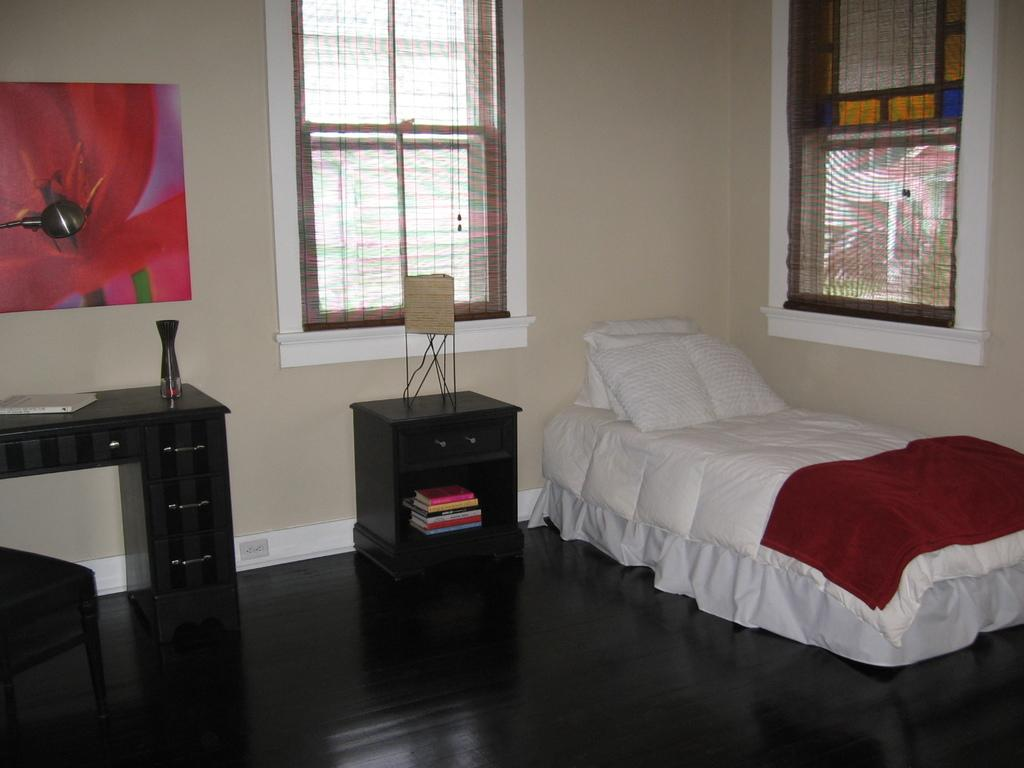cabinet_door: (153, 466, 231, 528), (1, 426, 143, 460), (398, 418, 508, 460), (148, 528, 235, 574), (147, 422, 225, 460)
handle: (166, 496, 210, 519), (436, 434, 481, 456), (171, 550, 212, 572), (160, 440, 206, 458), (103, 431, 124, 452)
